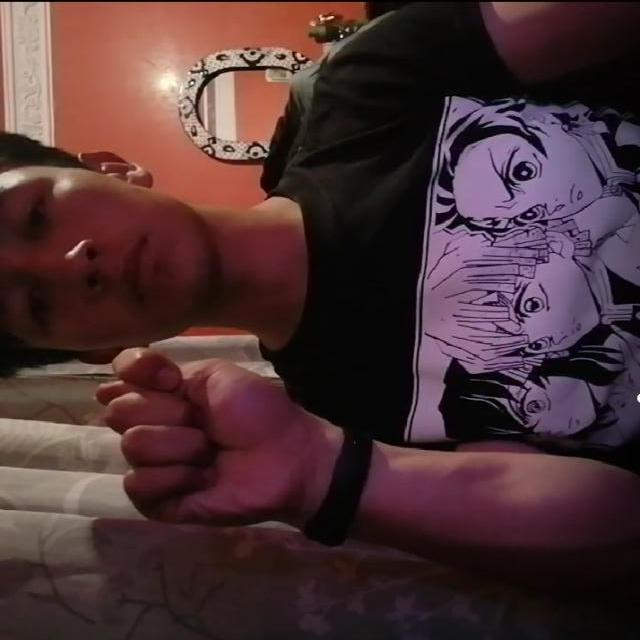T: (75, 328, 328, 540)
